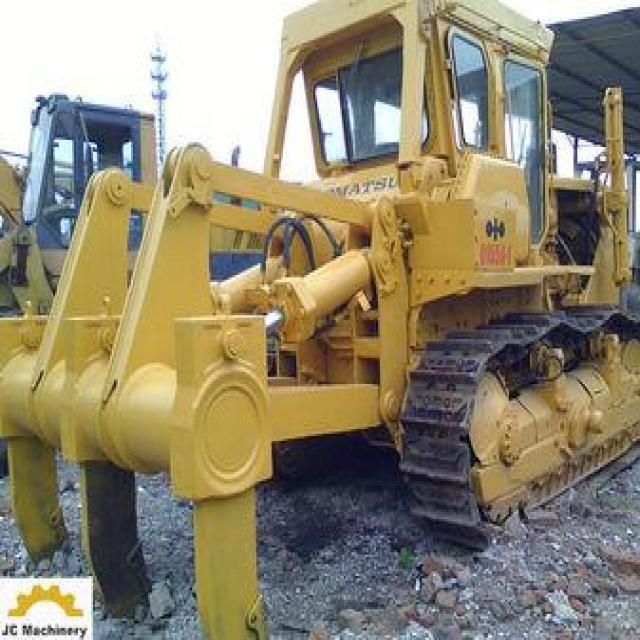Bulldozer: (0, 2, 638, 592)
